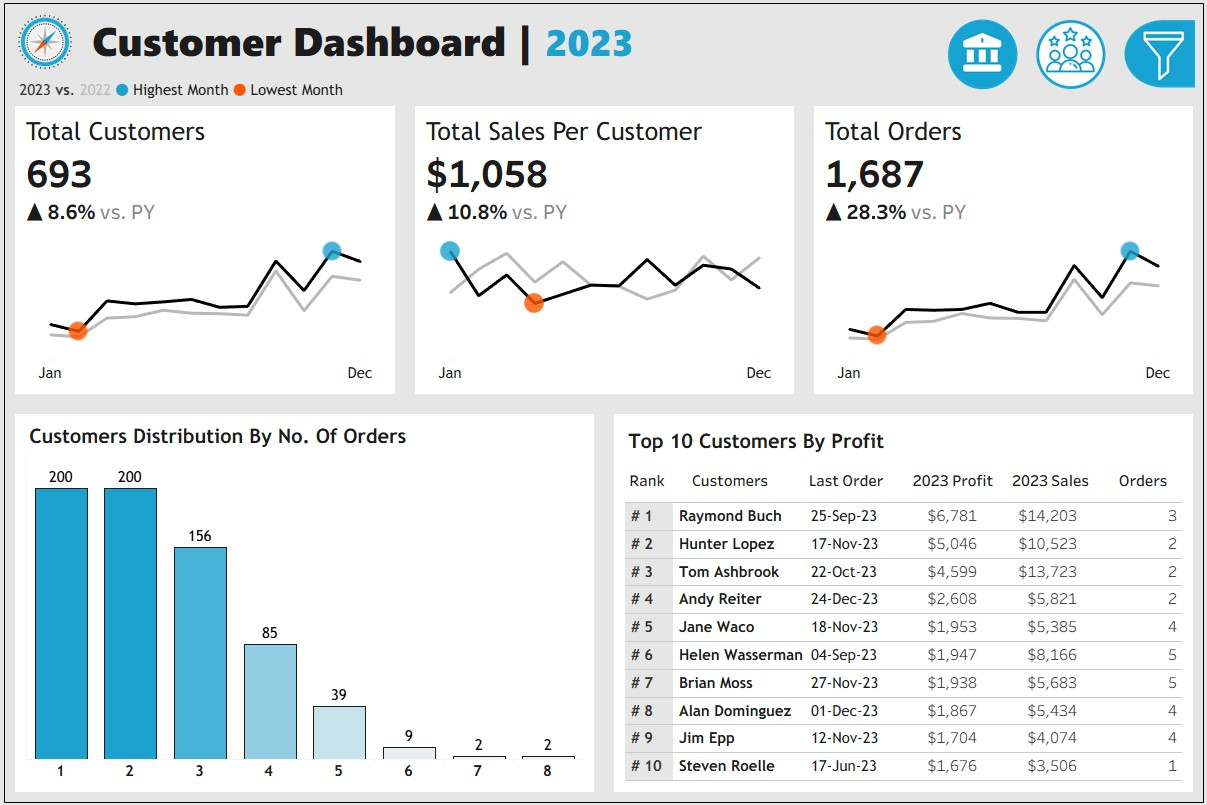

The dashboard page shown, as its layout file describes it:
{"tool":"tableau","page":{"name":"Customer Dashboard","canvas":[1200,800],"ordinal":0},"visuals":[{"type":"image","param":"Image/Icon - Logo.png","box":[1,6,80,65]},{"type":"text","box":[81,6,859,65]},{"type":"blank","box":[935,10,254,100]},{"type":"dashboard-object","box":[934,11,89,80]},{"type":"dashboard-object","box":[1023,11,88,80]},{"type":"dashboard-object","box":[1111,11,88,80]},{"type":"worksheet","title":"Legend KPI","mark":"Automatic","box":[1,71,1198,32]},{"type":"worksheet","title":"KPI Customers","mark":"Line","rows":["Calculation_659214440351072263"],"cols":["Order Date"],"box":[1,103,400,298]},{"type":"worksheet","title":"KPI Sales Per Customer","mark":"Automatic","rows":["Calculation_645140691699204096"],"cols":["Order Date"],"box":[401,103,399,298]},{"type":"worksheet","title":"KPI Orders","mark":"Automatic","rows":["Calculation_645140691707531271"],"cols":["Order Date"],"box":[800,103,399,298]},{"type":"text","box":[935,110,254,70]},{"type":"blank","box":[935,180,254,2]},{"type":"parameter","param":"[Parameters].[Parameter 1]","box":[935,182,254,88]},{"type":"blank","box":[935,270,254,15]},{"type":"text","box":[935,285,254,54]},{"type":"filter","title":"KPI Customers","param":"[federated.048k0v505h3e8l141cuxh0hj0k7t].[none:Category:nk]","box":[935,339,254,70]},{"type":"filter","title":"KPI Customers","param":"[federated.048k0v505h3e8l141cuxh0hj0k7t].[none:Sub-Category:nk]","box":[935,409,254,70]},{"type":"text","box":[18,418,565,30]},{"type":"text","box":[617,418,565,41]},{"type":"worksheet","title":"Customer Distribution","mark":"Bar","rows":["Calculation_659214440290508803"],"cols":["Calculation_645140691720392717"],"box":[18,448,565,334]},{"type":"text","box":[617,459,52,36]},{"type":"text","box":[669,459,114,36]},{"type":"text","box":[783,459,118,36]},{"type":"text","box":[901,459,96,36]},{"type":"text","box":[997,459,99,36]},{"type":"text","box":[1096,459,86,36]},{"type":"blank","box":[935,479,254,30]},{"type":"worksheet","title":"Top Customers","mark":"Automatic","rows":["Calculation_645140691724034064","Customer Name","Order Date"],"box":[617,495,565,287]},{"type":"text","box":[935,509,254,54]},{"type":"filter","title":"KPI Customers","param":"[federated.048k0v505h3e8l141cuxh0hj0k7t].[none:Region:nk]","box":[935,563,254,70]},{"type":"filter","title":"KPI Customers","param":"[federated.048k0v505h3e8l141cuxh0hj0k7t].[none:State:nk]","box":[935,633,254,70]},{"type":"filter","title":"KPI Customers","param":"[federated.048k0v505h3e8l141cuxh0hj0k7t].[none:City:nk]","box":[935,703,254,70]}]}

Visuals, with their boxes in screenshot pixels (x1, y1, x2, y2), scaled from the page's 1200x800 canvas onto the 1207x805 screenshot:
image: pyautogui.locateOnScreen(1, 6, 81, 71)
text: pyautogui.locateOnScreen(81, 6, 945, 71)
blank: pyautogui.locateOnScreen(940, 10, 1196, 111)
dashboard-object: pyautogui.locateOnScreen(939, 11, 1029, 92)
dashboard-object: pyautogui.locateOnScreen(1029, 11, 1117, 92)
dashboard-object: pyautogui.locateOnScreen(1117, 11, 1206, 92)
"Legend KPI" worksheet: pyautogui.locateOnScreen(1, 71, 1206, 104)
"KPI Customers" worksheet (Line marks): pyautogui.locateOnScreen(1, 104, 403, 404)
"KPI Sales Per Customer" worksheet: pyautogui.locateOnScreen(403, 104, 805, 404)
"KPI Orders" worksheet: pyautogui.locateOnScreen(805, 104, 1206, 404)
text: pyautogui.locateOnScreen(940, 111, 1196, 181)
blank: pyautogui.locateOnScreen(940, 181, 1196, 183)
parameter: pyautogui.locateOnScreen(940, 183, 1196, 272)
blank: pyautogui.locateOnScreen(940, 272, 1196, 287)
text: pyautogui.locateOnScreen(940, 287, 1196, 341)
"KPI Customers" filter: pyautogui.locateOnScreen(940, 341, 1196, 412)
"KPI Customers" filter: pyautogui.locateOnScreen(940, 412, 1196, 482)
text: pyautogui.locateOnScreen(18, 421, 586, 451)
text: pyautogui.locateOnScreen(621, 421, 1189, 462)
"Customer Distribution" worksheet (Bar marks): pyautogui.locateOnScreen(18, 451, 586, 787)
text: pyautogui.locateOnScreen(621, 462, 673, 498)
text: pyautogui.locateOnScreen(673, 462, 788, 498)
text: pyautogui.locateOnScreen(788, 462, 906, 498)
text: pyautogui.locateOnScreen(906, 462, 1003, 498)
text: pyautogui.locateOnScreen(1003, 462, 1102, 498)
text: pyautogui.locateOnScreen(1102, 462, 1189, 498)
blank: pyautogui.locateOnScreen(940, 482, 1196, 512)
"Top Customers" worksheet: pyautogui.locateOnScreen(621, 498, 1189, 787)
text: pyautogui.locateOnScreen(940, 512, 1196, 567)
"KPI Customers" filter: pyautogui.locateOnScreen(940, 567, 1196, 637)
"KPI Customers" filter: pyautogui.locateOnScreen(940, 637, 1196, 707)
"KPI Customers" filter: pyautogui.locateOnScreen(940, 707, 1196, 778)
